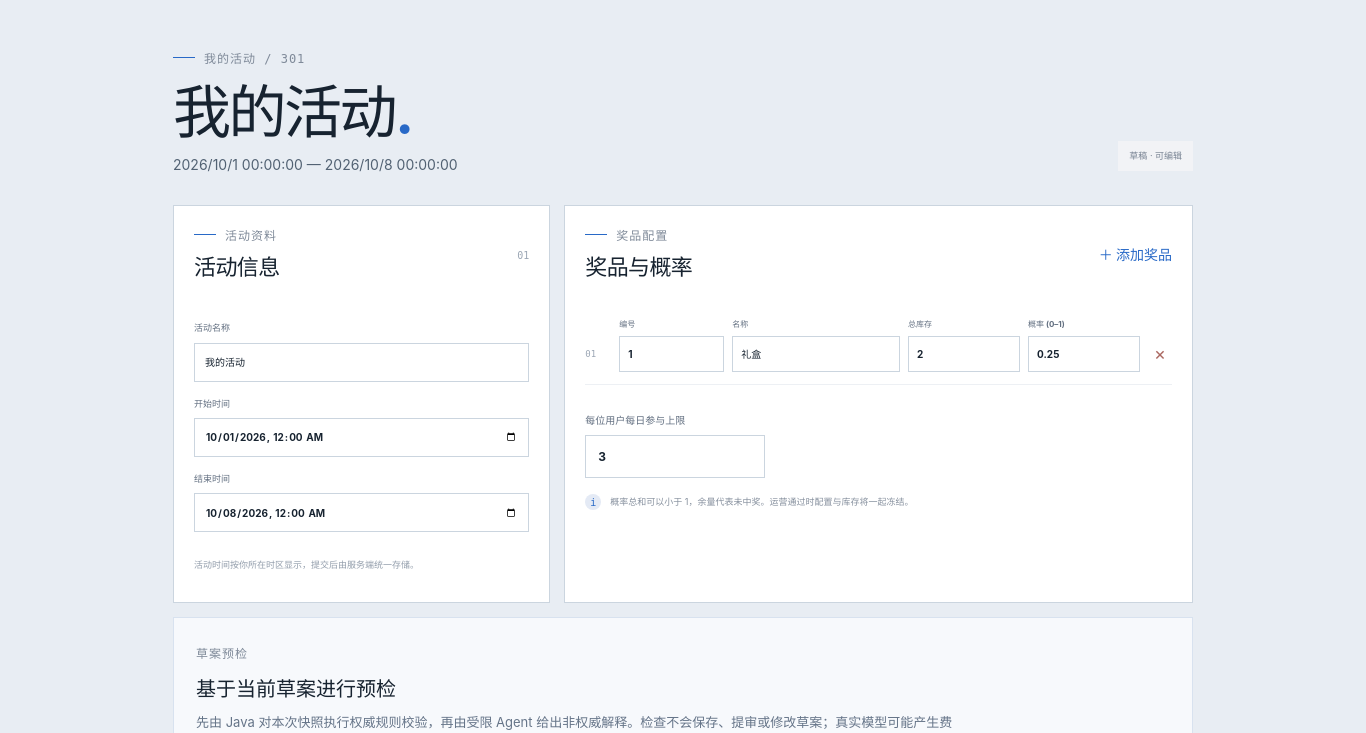
Scenario: creator-owned campaign editing and copilot › saves changed owner details and configuration before submitting for review
Replace the text in the field labelled "活动名称" with "已修改活动": coordinates (362, 362) [194,342,529,382]
(page scrolled)
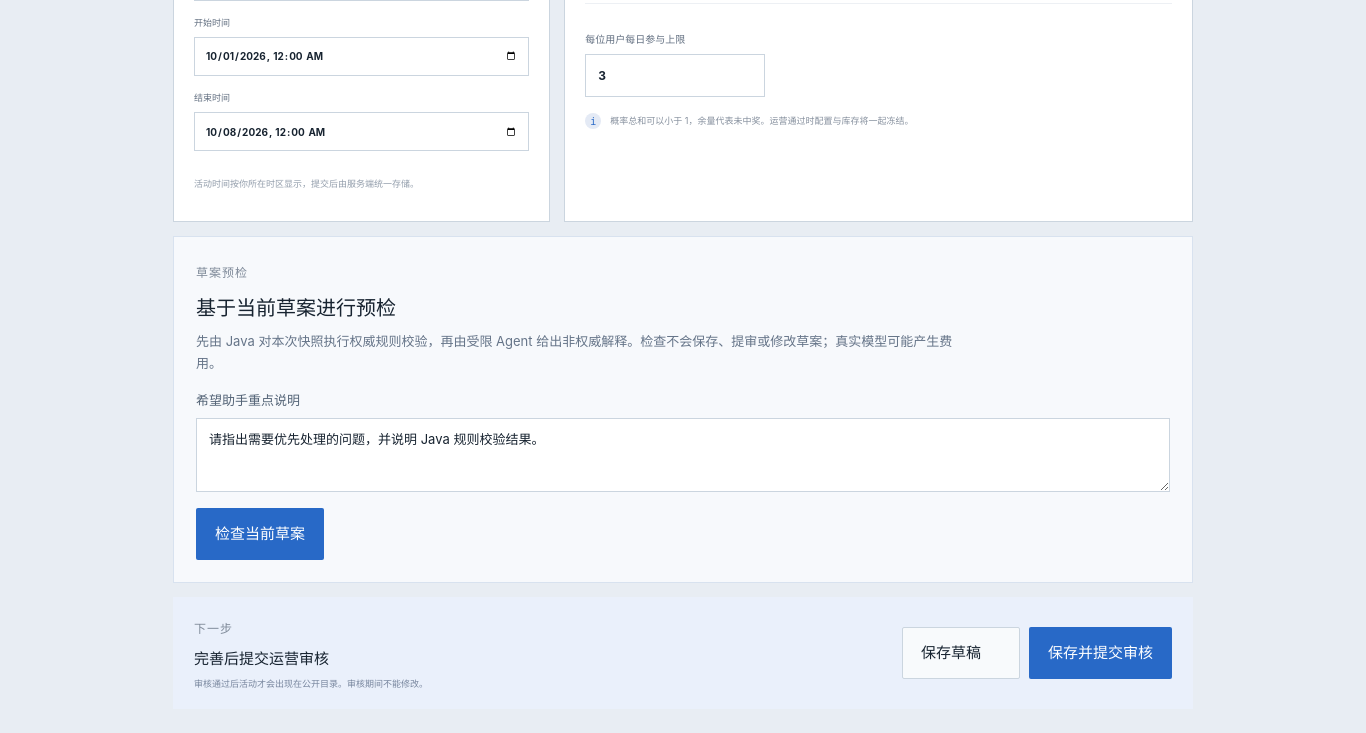
Click the button "保存并提交审核": coordinates (1100, 653) [1029,627,1172,679]
(page scrolled)
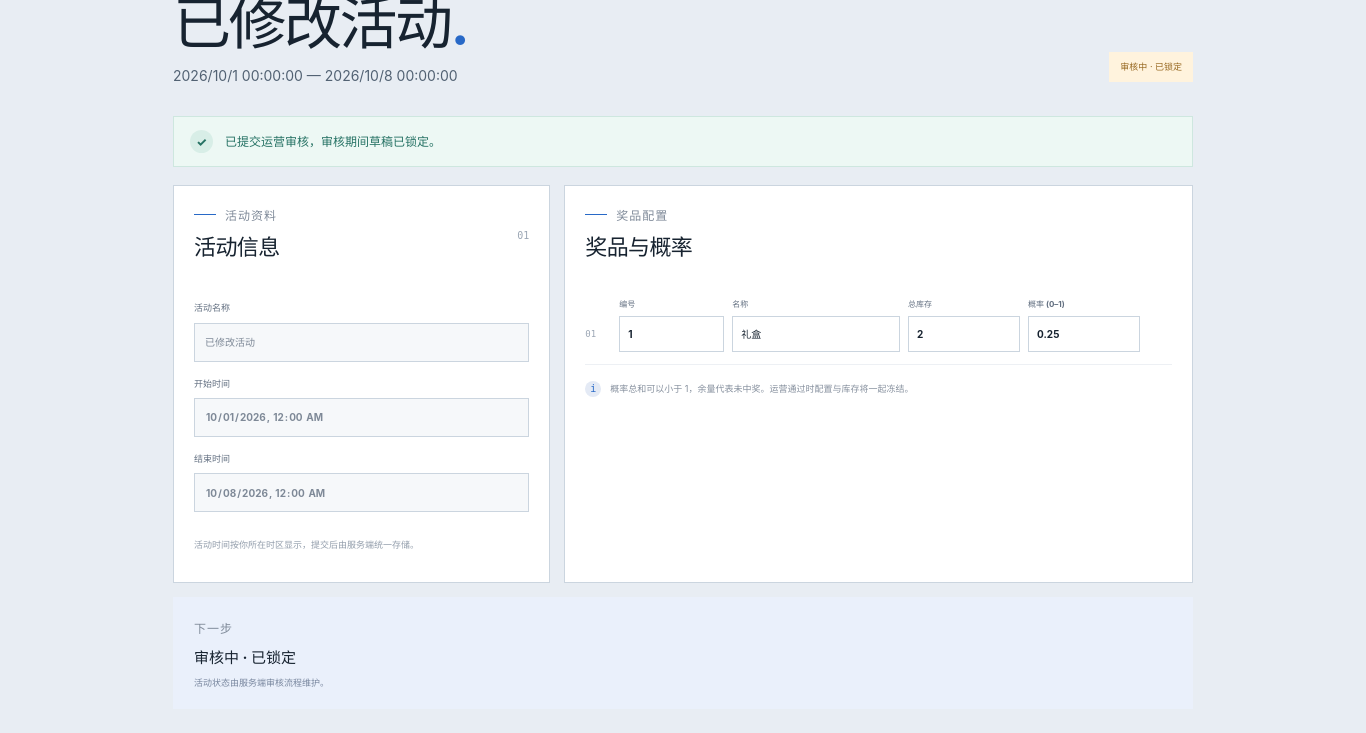
expect the text "审核期间草稿已锁定" is shown: met, box [225,134,441,149]
expect the field labelled "活动名称" is disabled: met, box [194,322,529,362]
